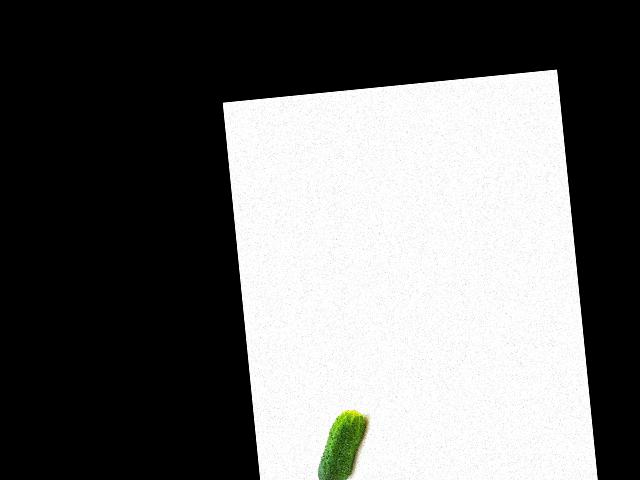cucumber: (311, 408, 371, 480)
